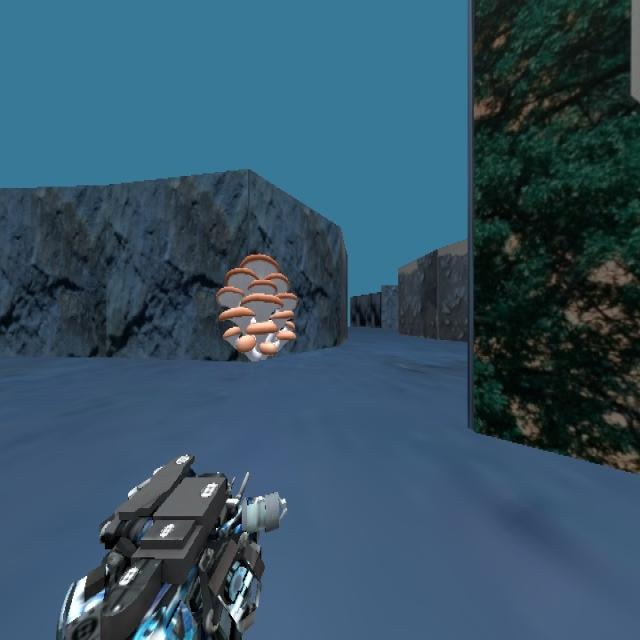Mushroom: (216, 252, 298, 361)
Stop_Sign: (629, 0, 639, 104)
